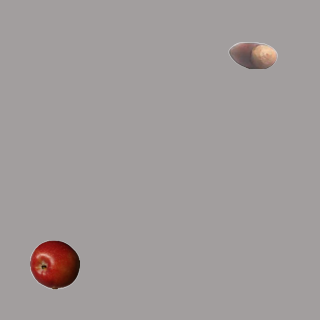Apple Braeburn: (29, 239, 79, 289)
Hazelnut: (227, 30, 277, 80)
